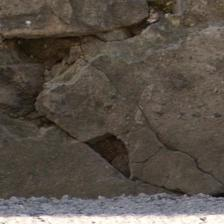Crack: (21, 0, 114, 94), (51, 39, 121, 138), (0, 61, 137, 107), (0, 0, 76, 65), (67, 7, 116, 80)
